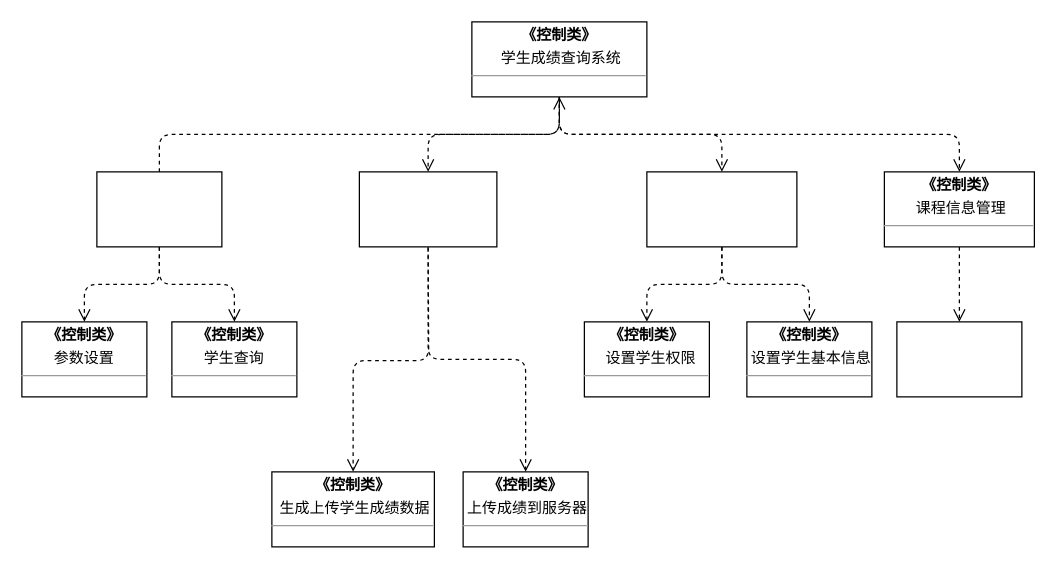
Some shapes in this 1056 by 569 pixel diagram are drawn without their labels. The shapes that lost their labels are listed below. From the top down, each one's box as (x1, y1, x2, y2) in pixels, then its label:
(96, 171, 222, 247): 《控制类》 成绩查询
(358, 171, 497, 247): 《控制类》 成绩录入
(646, 171, 797, 247): 《控制类》 学生信息管理
(896, 321, 1022, 397): 《控制类》 课程参数设置
